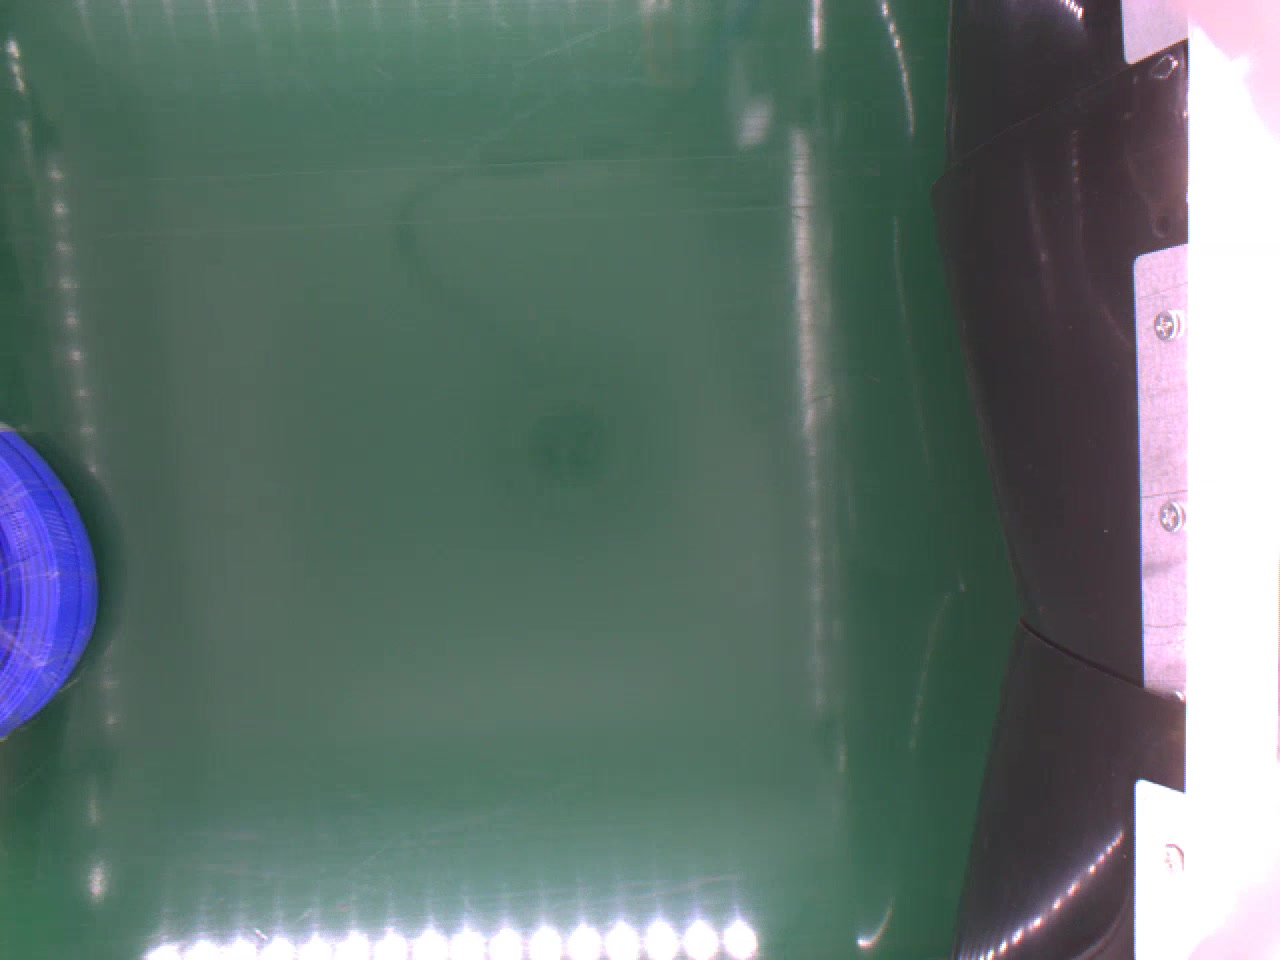blue: (0, 427, 95, 733)
